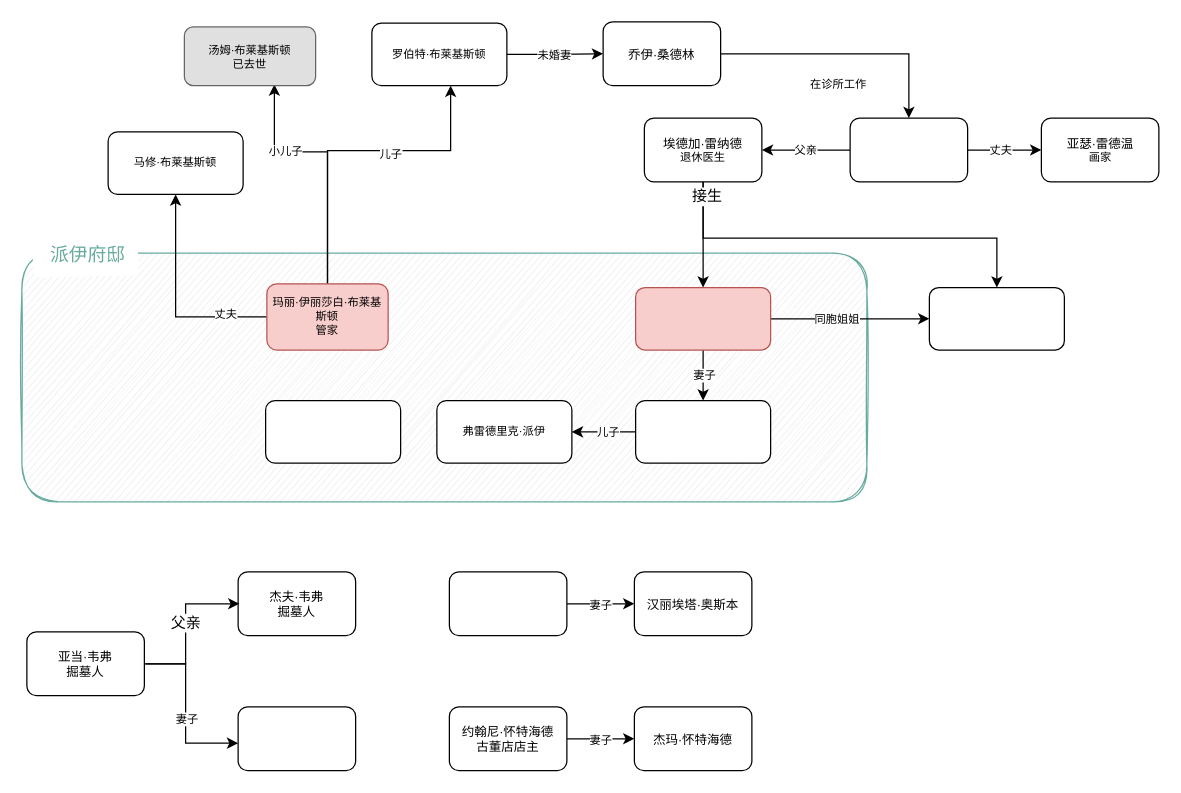
The diagram is 1181 pixels wide and 793 high, and some of its shapes have lost their labels. The shapes that lost their labels are listed below. From the top down, each one's centre as x and y in pixels, then its label:
At point 908,149: "艾米莉亚·雷德温 医生".
At point 702,318: "马格纳斯·派伊 男爵".
At point 996,318: "克拉丽莎·派伊".
At point 332,431: "内维尔·布伦特 园丁".
At point 702,431: "弗朗西斯·派伊".
At point 507,603: "罗宾·奥斯本 牧师".
At point 296,738: "戴安娜·韦弗".
